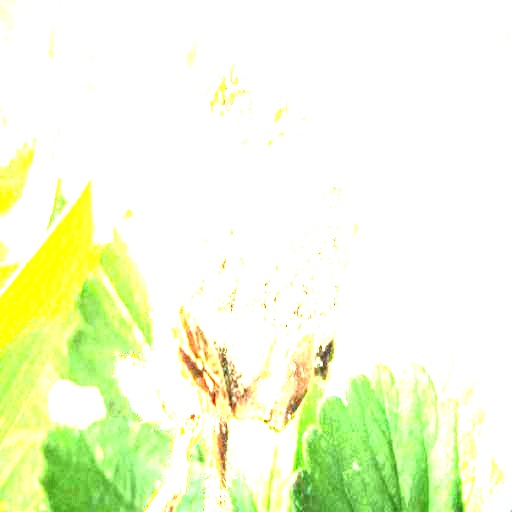Gray Mold: (114, 55, 343, 435)
